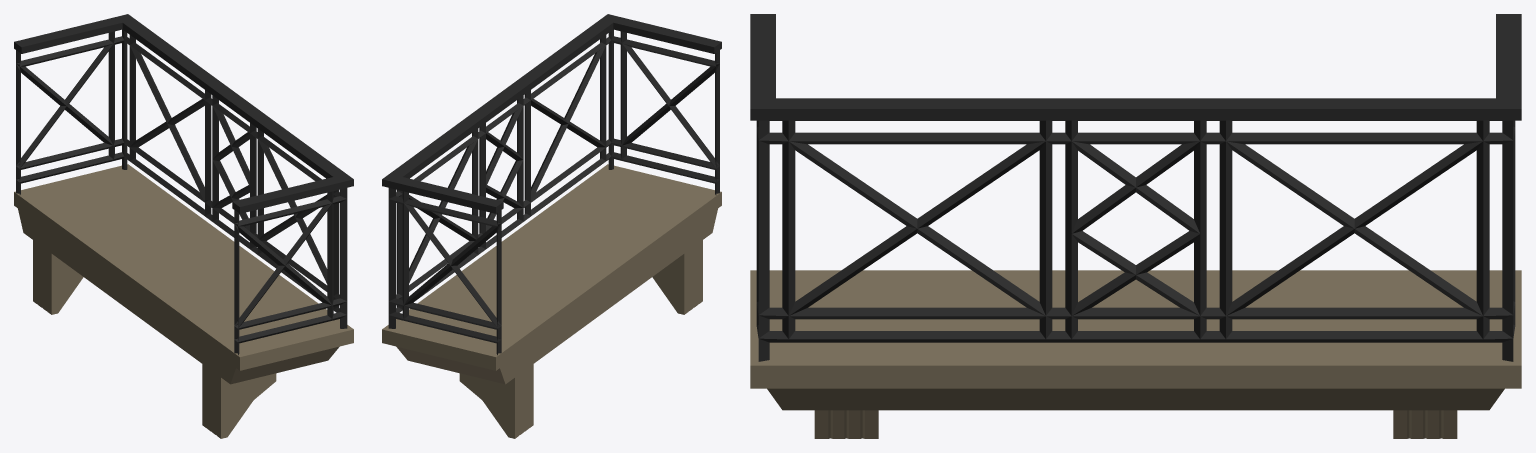
The model's file is Balcony.fbx.
3 renders of one model, left to right at view 1: azimuth 30°, elevation 25°; view 2: azimuth 150°, elevation 25°; view 3: azimuth 270°, elevation 25°, orthographic. The views are drawn at different scales.
Parts seen in each view (by area): view 1: Balcony; view 2: Balcony; view 3: Balcony.
Boxes of the visible parts, left/top/right/bottom form: Balcony: left=14, top=14, right=353, bottom=438; Balcony: left=382, top=14, right=721, bottom=438; Balcony: left=750, top=14, right=1521, bottom=438.
Bounding box in the file's own units: 35 × 72 × 120.
